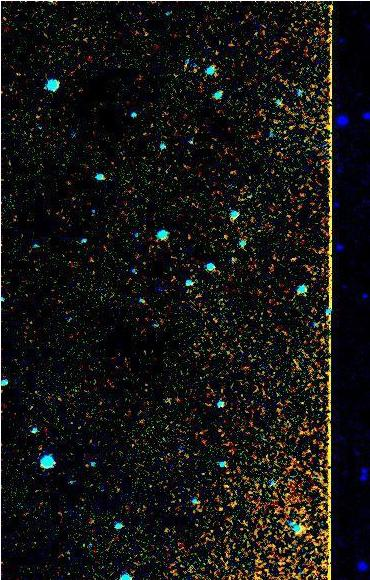star: (207, 491, 237, 521)
